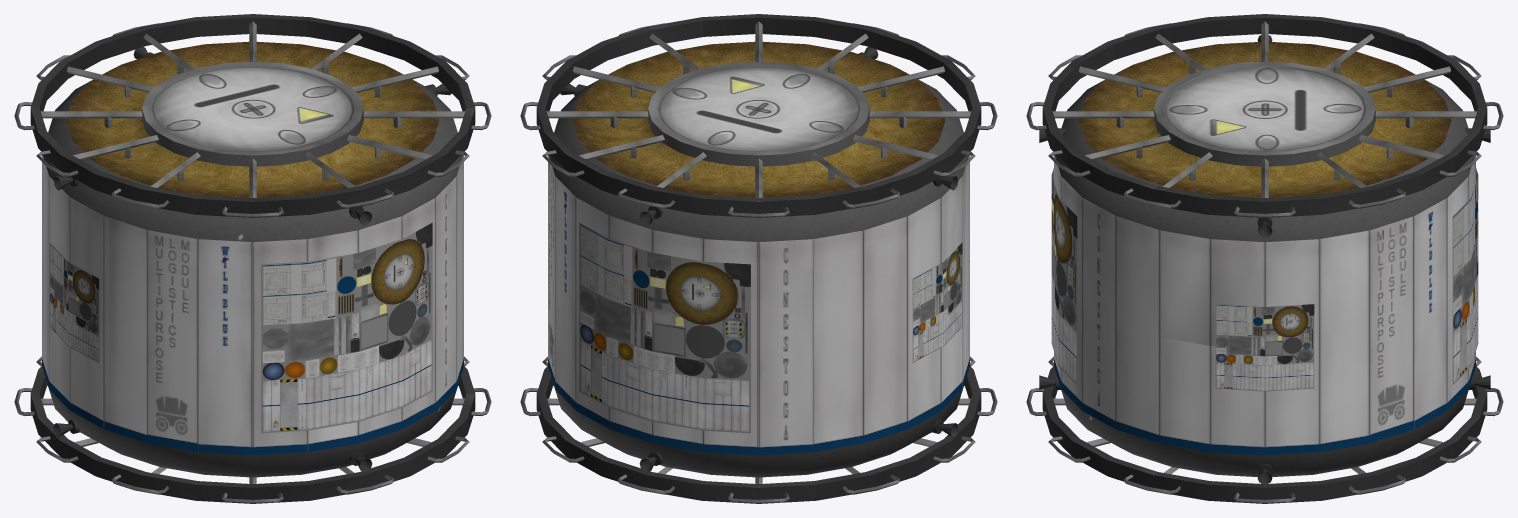
File: MSM.FBX
The picture shows the model from 3 angles, left to right: view 1: azimuth 30°, elevation 25°; view 2: azimuth 150°, elevation 25°; view 3: azimuth 270°, elevation 25°; orthographic projection.
Visible parts, largest first — view 1: MainBody, EndCap001, logoPanel001, EndCapShiny, StructuralRing001, StructuralRing002, EndCap002, logoPanel003, Brace003, Brace009, Brace010, Brace002 (+2 smaller); view 2: MainBody, EndCap001, logoPanel004, EndCapShiny, StructuralRing001, StructuralRing002, EndCap002, logoPanel003, Brace005, Brace011, Brace010, Brace006 (+2 smaller); view 3: MainBody, EndCap001, EndCapShiny, StructuralRing001, StructuralRing002, logoPanel002, EndCap002, logoPanel001, logoPanel004, Brace001, Brace007, Brace006 (+3 smaller).
Boxes of the visible parts, x1,y1,x2,y2 form: MainBody: (42,155,463,455); EndCap001: (43,61,462,241); logoPanel001: (261,222,432,433); EndCapShiny: (66,41,439,197); StructuralRing001: (30,14,475,217); StructuralRing002: (30,366,475,503); EndCap002: (45,378,460,477); logoPanel003: (49,243,99,362); Brace003: (40,111,142,118); Brace009: (363,111,465,118); Brace010: (351,66,438,92); Brace002: (67,66,154,92); MainBody: (548,155,969,455); EndCap001: (549,61,968,241); logoPanel004: (579,222,750,433); EndCapShiny: (572,41,945,197); StructuralRing001: (536,14,981,217); StructuralRing002: (536,366,981,503); EndCap002: (551,378,966,477); logoPanel003: (912,243,962,362); Brace005: (869,111,971,118); Brace011: (546,111,648,118); Brace010: (573,66,660,92); Brace006: (857,66,944,92); MainBody: (1054,155,1475,455); EndCap001: (1055,61,1474,241); EndCapShiny: (1078,41,1451,197); StructuralRing001: (1042,14,1487,217); StructuralRing002: (1042,366,1487,503); logoPanel002: (1215,304,1314,391); EndCap002: (1060,386,1469,476); logoPanel001: (1051,168,1077,384); logoPanel004: (1452,168,1478,384); Brace001: (1375,111,1477,118); Brace007: (1052,111,1154,118); Brace006: (1079,66,1166,92).
Size of what is drawn, in the model's own units: 2.68 by 1.88 by 2.68.
